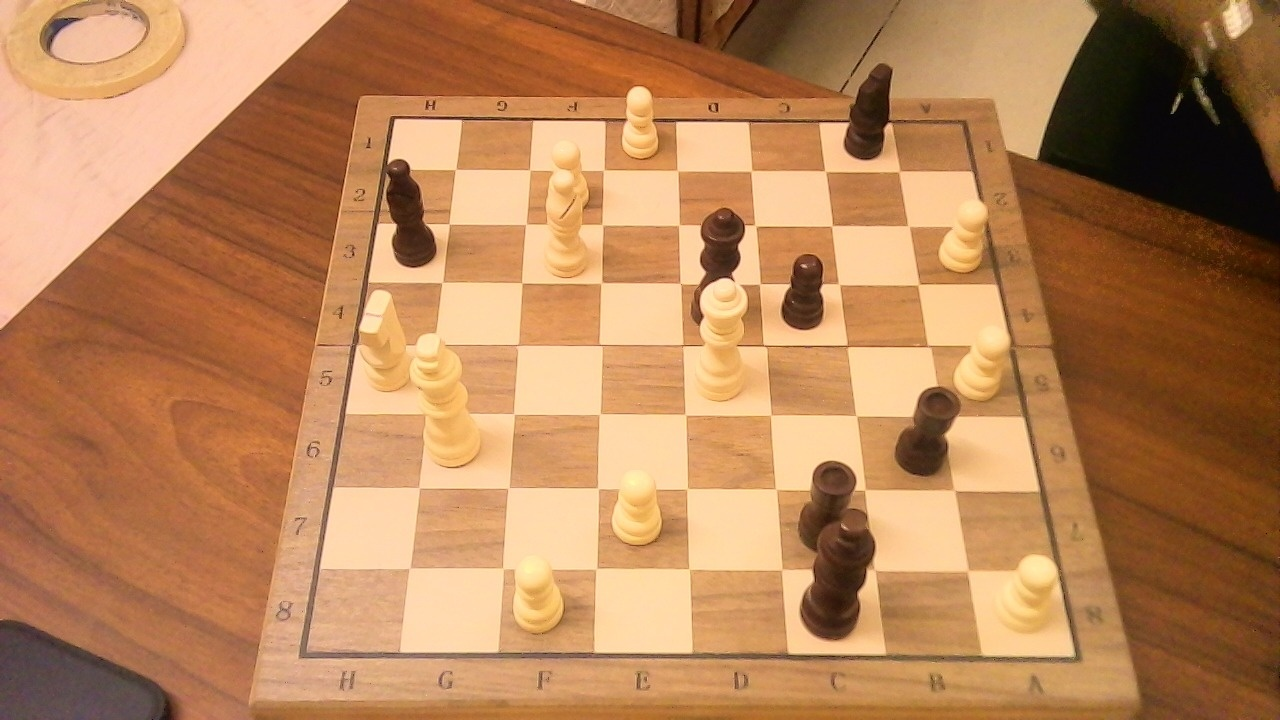B: (532, 160, 597, 281)
K: (407, 321, 491, 472)
N: (352, 318, 416, 397)
P: (989, 544, 1068, 637), (504, 544, 572, 638), (949, 316, 1018, 403), (604, 459, 668, 549), (932, 190, 995, 275), (613, 77, 665, 163), (540, 132, 594, 213)
Q: (688, 265, 759, 407)
b: (378, 147, 443, 272)
k: (793, 492, 890, 646)
n: (837, 50, 902, 164)
p: (775, 243, 837, 334)
q: (687, 196, 759, 329)
r: (888, 372, 970, 480), (791, 448, 867, 556)
